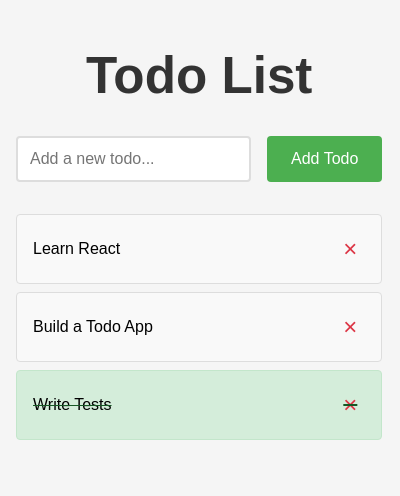
TodoList Component › adds a new todo
Type "New Test Todo" into the field with placeholder "Add a new todo...".
click(134, 159); type("New Test Todo")  # box x1=16 y1=136 x2=251 y2=182
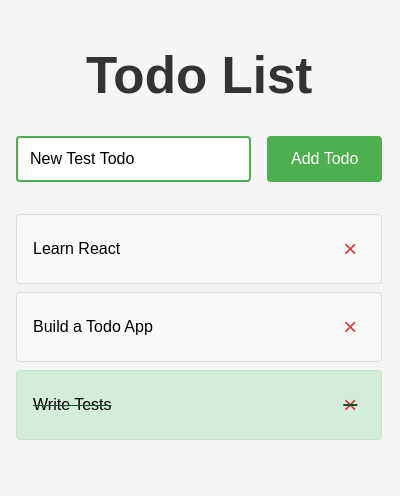
Click the button "Add Todo".
click(325, 159)  # box x1=267 y1=136 x2=382 y2=182
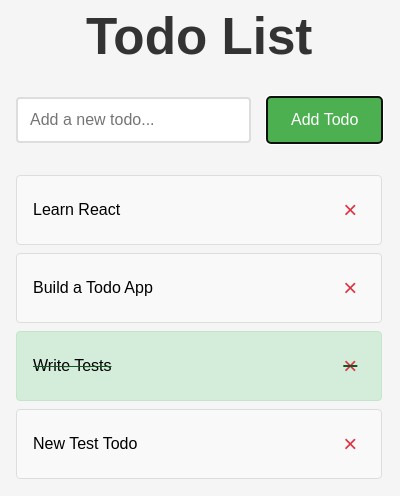
Result: the text "New Test Todo" is shown at x1=33 y1=435 x2=137 y2=452
Result: the field with placeholder "Add a new todo..." is empty at x1=16 y1=97 x2=251 y2=143
